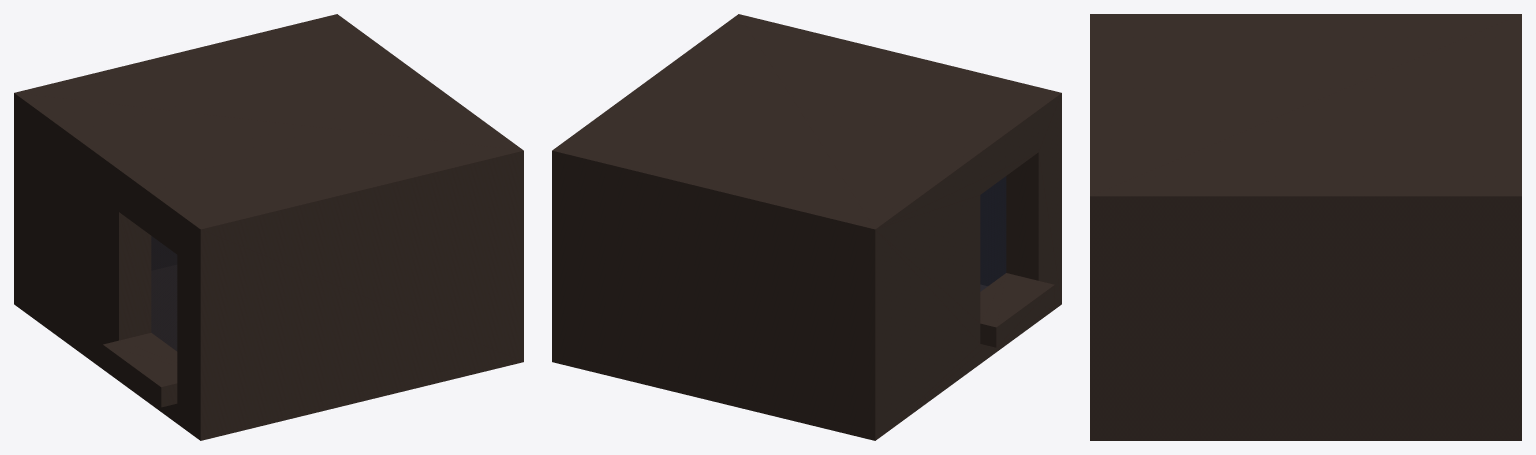
Rendered from modularBuildings_067.obj.
3 views of the same model, side by side, from view 1: azimuth 30°, elevation 25°; view 2: azimuth 150°, elevation 25°; view 3: azimuth 270°, elevation 25° (orthographic). The views are drawn at different scales.
Parts seen in each view (by area): view 1: Mesh1 Group1 Model; view 2: Mesh1 Group1 Model; view 3: Mesh1 Group1 Model.
Boxes of the visible parts, x1,y1,x2,y2 form: Mesh1 Group1 Model: (14, 14, 523, 440); Mesh1 Group1 Model: (552, 14, 1061, 440); Mesh1 Group1 Model: (1090, 14, 1521, 440).
Size of the model in its own units: 1.05 by 0.625 by 1.
3 materials, 3 textured.
